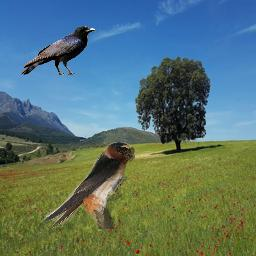Crow: (21, 25, 95, 75)
Swallow: (41, 142, 135, 229)
